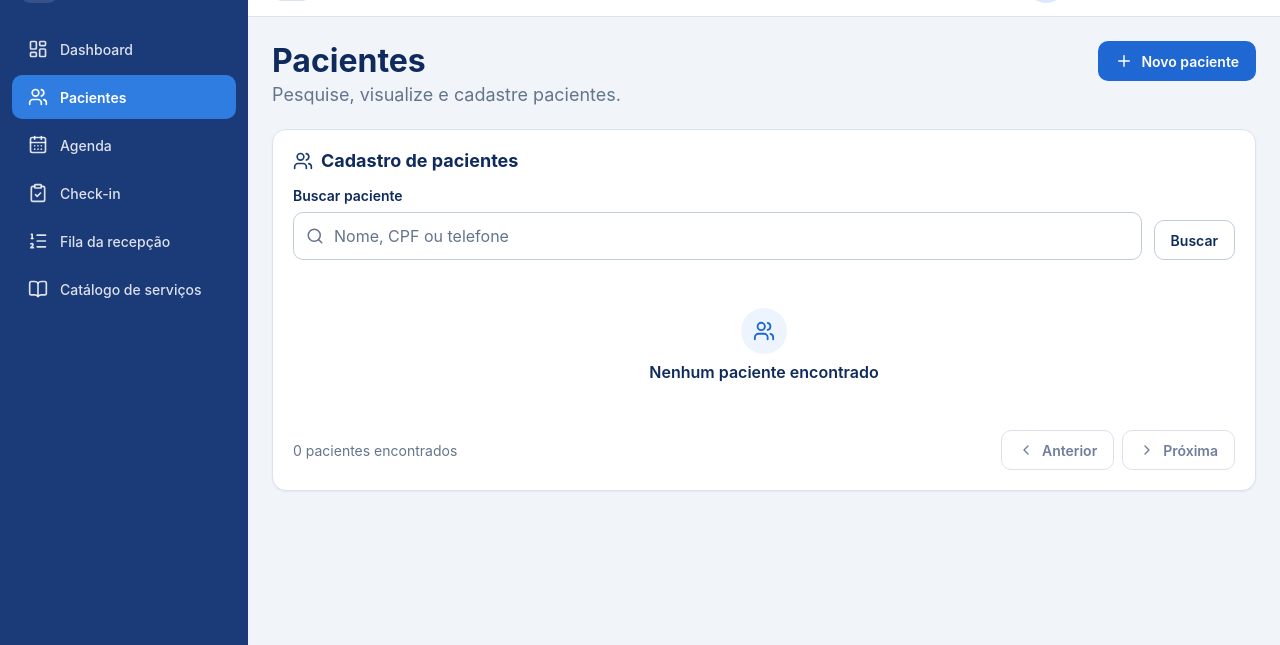
Scenario: páginas da recepção › exibe erro de validação do CPF no campo
Click the button "Novo paciente". click: click(1177, 61)
box: left=1098, top=41, right=1256, bottom=81
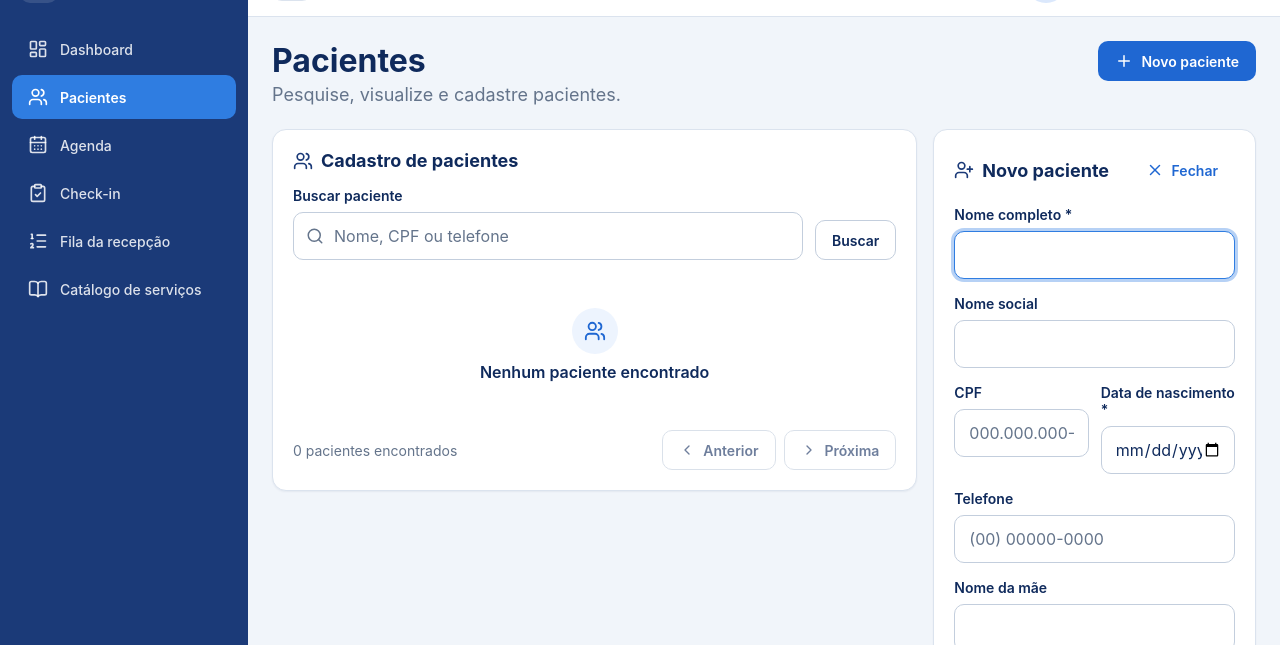
Type "111" into the field labelled "CPF". click: (1021, 433)
box: left=967, top=422, right=1076, bottom=444
(page scrolled)
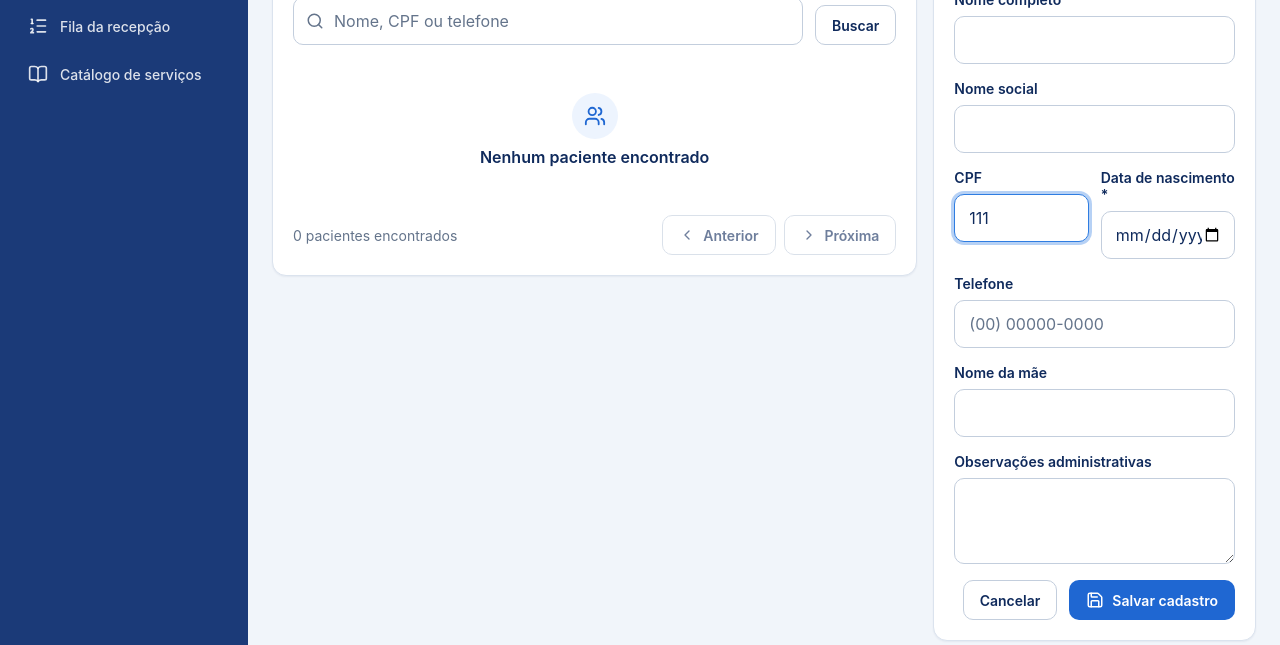
Click the button "Salvar cadastro". click: click(1152, 600)
box: left=1069, top=580, right=1235, bottom=620
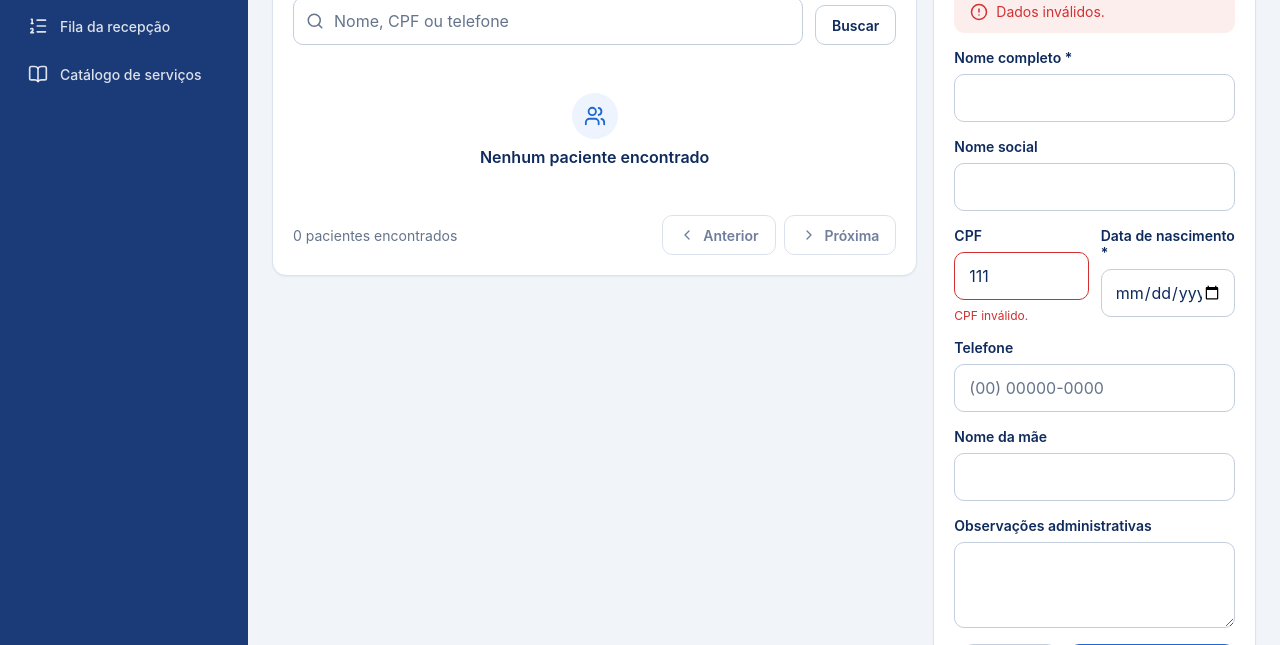
Result: the text "CPF inválido." is shown at left=954, top=308, right=1028, bottom=323
